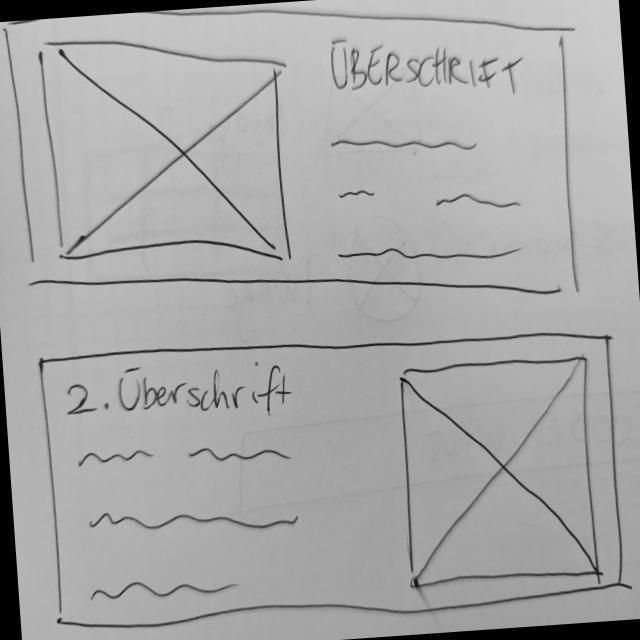container: (1, 1, 586, 336), (38, 314, 630, 640)
image: (37, 23, 297, 280), (394, 352, 606, 593)
label: (325, 24, 527, 114), (65, 356, 296, 433)
textbox: (75, 433, 306, 606), (326, 122, 530, 279)
